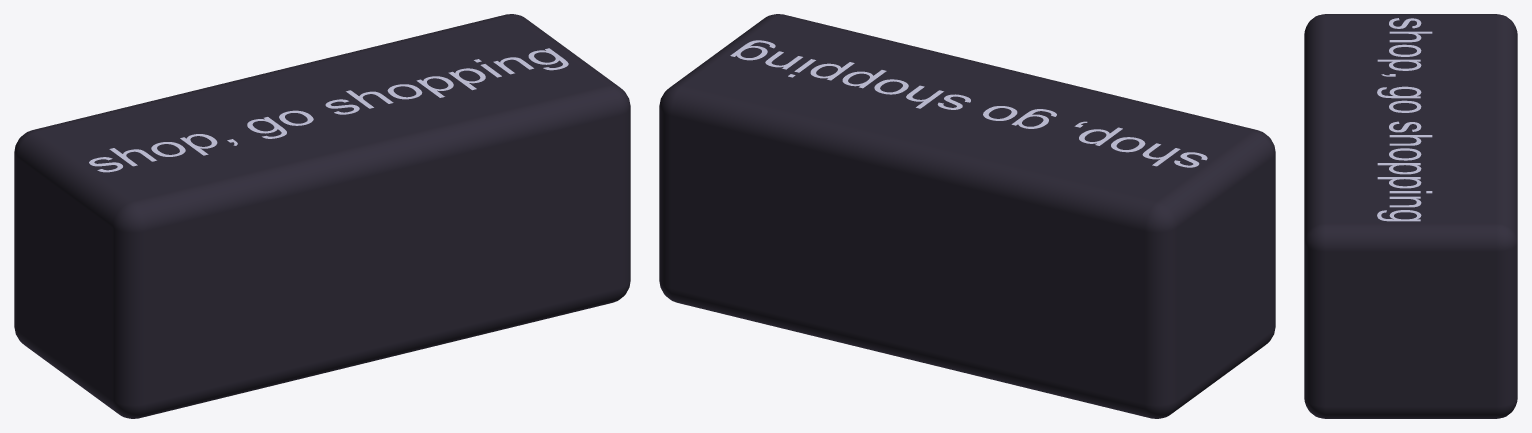
Rendered from shop.glb.
The picture shows the model from 3 angles, left to right: view 1: azimuth 30°, elevation 25°; view 2: azimuth 150°, elevation 25°; view 3: azimuth 270°, elevation 25°; orthographic projection. The views are drawn at different scales.
Visible parts, largest first — view 1: Cut, Extrude; view 2: Cut, Extrude; view 3: Cut, Extrude.
Boxes of the visible parts, bbox=[...] form: Cut: bbox=[14, 14, 630, 418]; Extrude: bbox=[89, 48, 568, 172]; Cut: bbox=[659, 14, 1275, 418]; Extrude: bbox=[730, 40, 1207, 167]; Cut: bbox=[1304, 14, 1517, 418]; Extrude: bbox=[1377, 18, 1432, 221].
Size of the model in its own units: 5 by 2 by 2.
